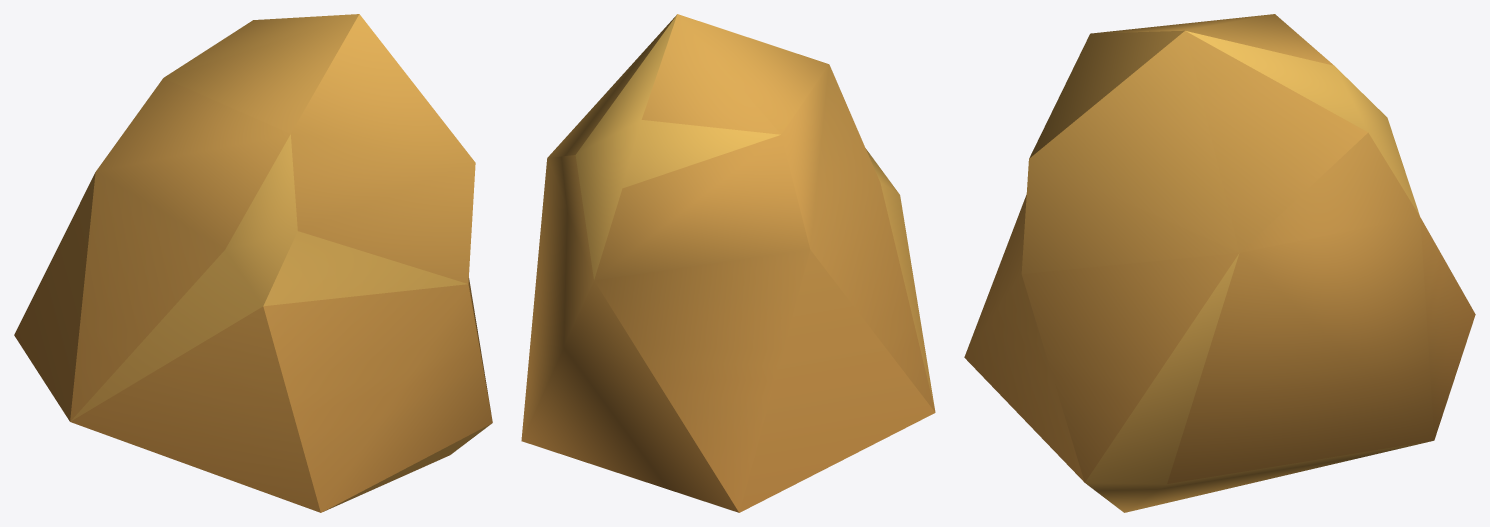
The model's file is gold_nugget_medium.glb.
3 renders of one model, left to right at view 1: azimuth 30°, elevation 25°; view 2: azimuth 150°, elevation 25°; view 3: azimuth 270°, elevation 25°, orthographic. The views are drawn at different scales.
Visible parts, largest first — view 1: Gold_Nugget_Medium; view 2: Gold_Nugget_Medium; view 3: Gold_Nugget_Medium.
Boxes of the visible parts, bbox=[...] form: Gold_Nugget_Medium: bbox=[14, 14, 492, 512]; Gold_Nugget_Medium: bbox=[521, 14, 935, 512]; Gold_Nugget_Medium: bbox=[964, 14, 1475, 512].
Bounding box in the file's own units: 0.1553 × 0.1669 × 0.1692.
1 material, 1 textured.
